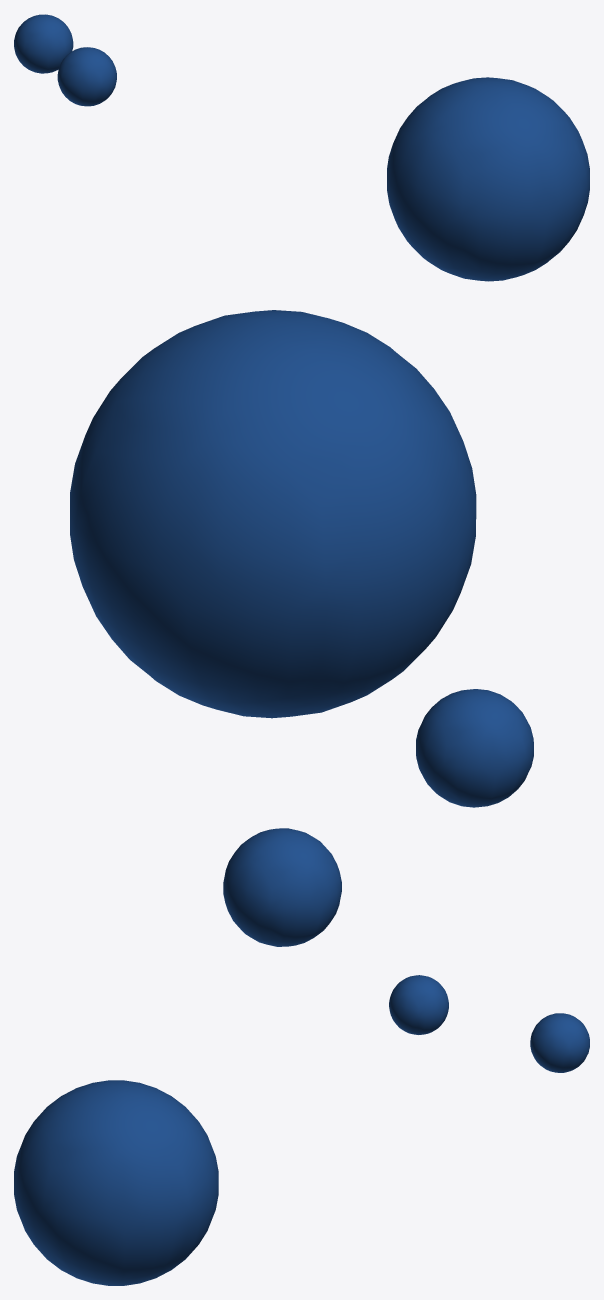
File: Planets.glb
3 renders of one model, top to bottom at view 1: azimuth 30°, elevation 25°; view 2: azimuth 150°, elevation 25°; view 3: azimuth 270°, elevation 25°, orthographic. The views are drawn at different scales.
Visible parts, largest first — view 1: Planet, Moon (×2); view 2: Planet, Moon (×2); view 3: Planet, Moon (×2).
Boxes of the visible parts, x1,y1,x2,y2 form: Planet: (387,77,589,281); Moon (×2): (14,14,116,106); Planet: (70,310,476,718); Moon (×2): (223,689,533,946); Planet: (14,1080,218,1285); Moon (×2): (389,975,589,1072).
Bounding box in the file's own units: 6.18 × 2.98 × 8.38.
